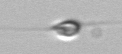plankton: (33, 17, 92, 42)
